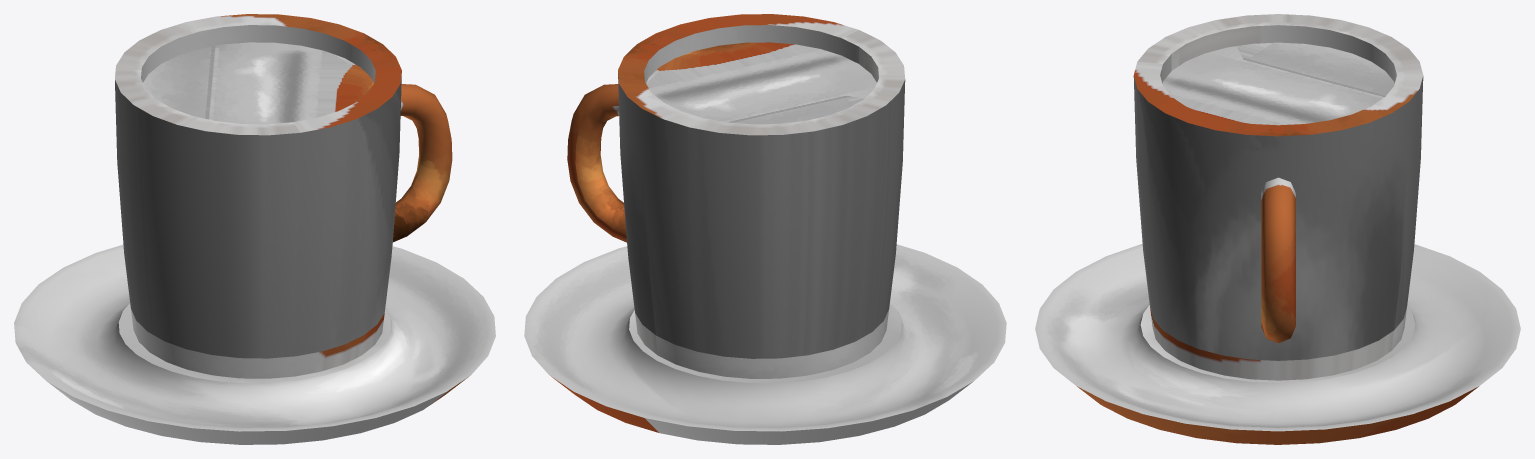
File: 7_2_raf.fbx
3 renders of one model, left to right at view 1: azimuth 30°, elevation 25°; view 2: azimuth 150°, elevation 25°; view 3: azimuth 270°, elevation 25°, orthographic.
Visible parts, largest first — view 1: Circle_080, Circle_084, Circle_082, Circle_081; view 2: Circle_080, Circle_084, Circle_082, Circle_081; view 3: Circle_080, Circle_084, Circle_082, Circle_081.
Boxes of the visible parts, x1,y1,x2,y2 form: Circle_080: (115, 14, 401, 378); Circle_084: (14, 245, 495, 444); Circle_082: (143, 42, 373, 124); Circle_081: (392, 84, 452, 242); Circle_080: (618, 14, 905, 378); Circle_084: (524, 244, 1006, 444); Circle_082: (646, 42, 876, 124); Circle_081: (567, 84, 626, 242); Circle_080: (1133, 14, 1423, 380); Circle_084: (1035, 243, 1520, 444); Circle_082: (1162, 42, 1394, 125); Circle_081: (1261, 177, 1295, 343).
Size of the model in its own units: 5.22 by 3.34 by 5.22.
